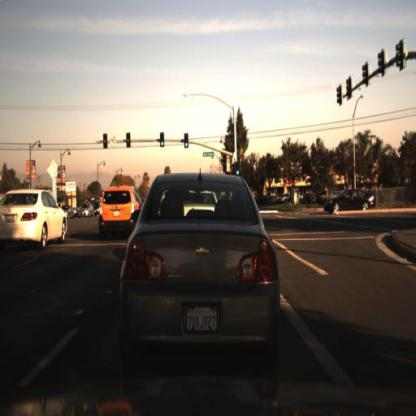car: (106, 165, 292, 363), (0, 178, 69, 256), (92, 172, 140, 242), (99, 182, 146, 230), (320, 182, 371, 222), (8, 186, 46, 224), (73, 198, 94, 222), (74, 199, 99, 219)
trafficLight: (124, 132, 132, 156), (102, 129, 110, 150), (159, 129, 167, 148)
trafficLight-Green: (178, 130, 192, 161), (233, 160, 241, 185), (156, 132, 164, 156), (234, 160, 242, 178)
trafficLight-Red: (182, 132, 189, 152)
trafficLight-RedLeft: (99, 130, 109, 156)
